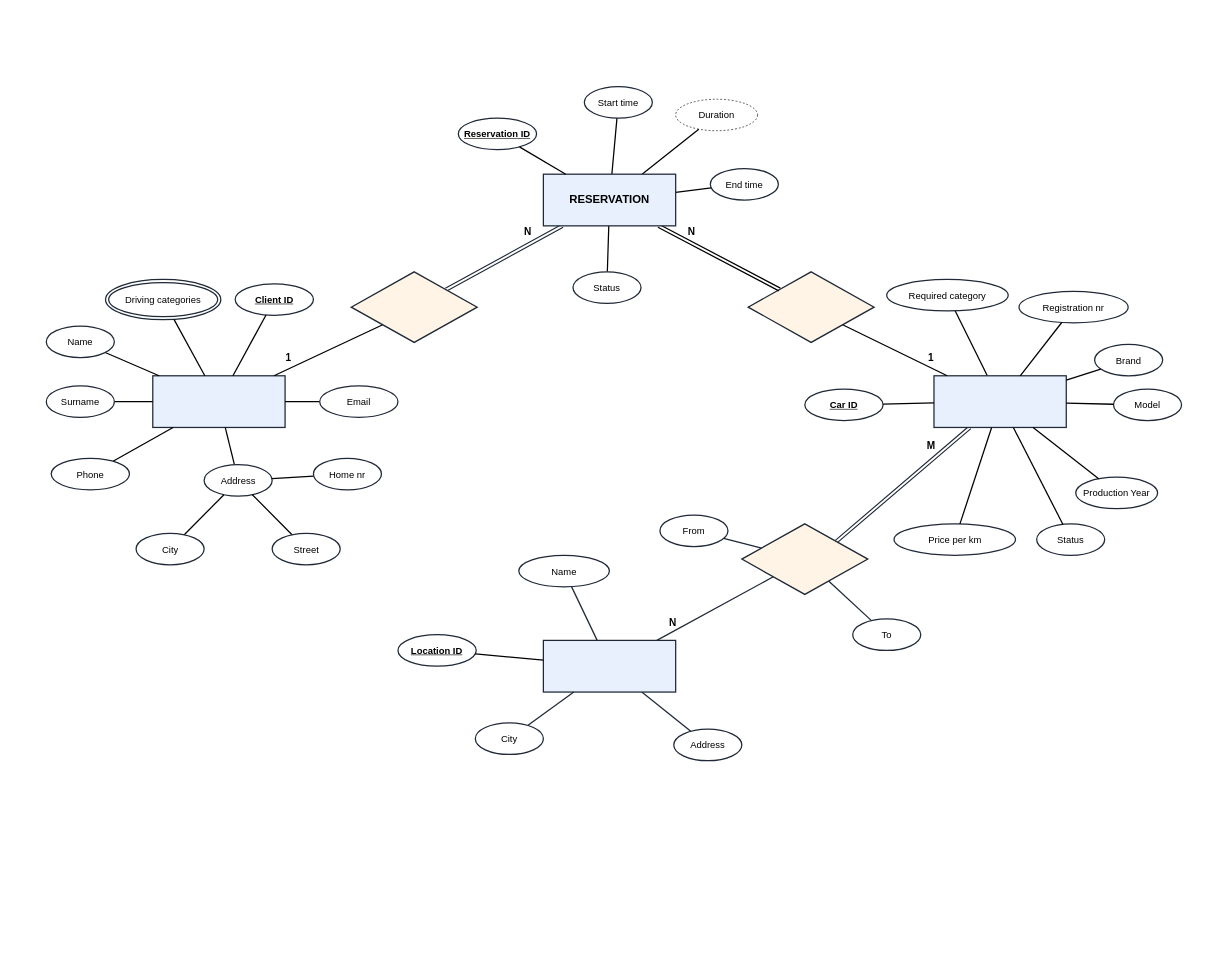
Some shapes in this 1218 by 954 pixel diagram are drawn without their labels. The shapes that lost their labels are listed below. From the top down, each one's box as (x1, y1, x2, y2) in pixels, then its label:
(350, 271, 478, 343): Makes
(747, 271, 874, 343): Reserve
(152, 375, 285, 428): Client
(933, 375, 1067, 428): Car
(741, 523, 868, 595): Located
(542, 639, 676, 692): Location
